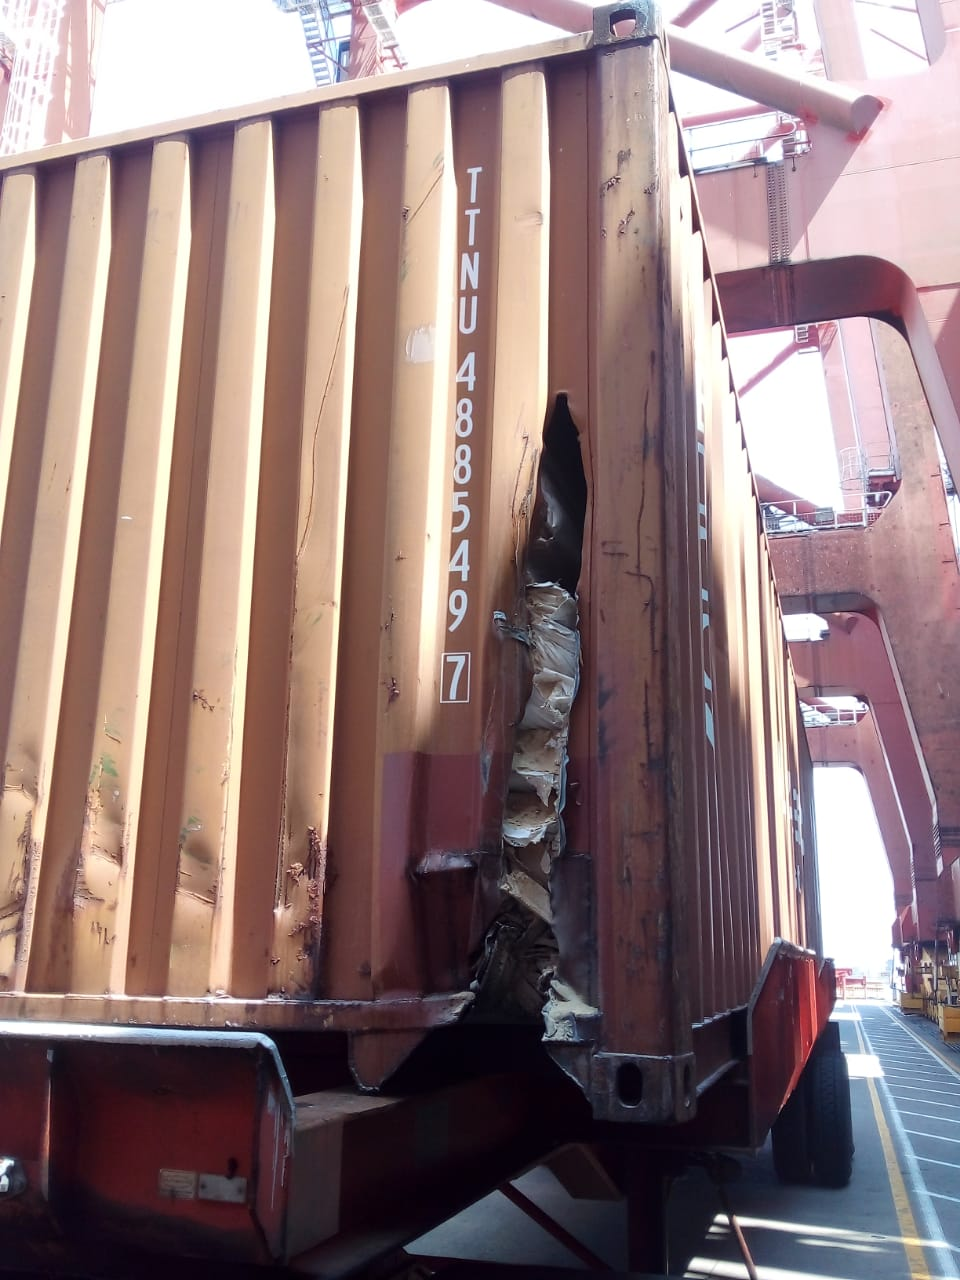severe: (439, 364, 608, 1013)
